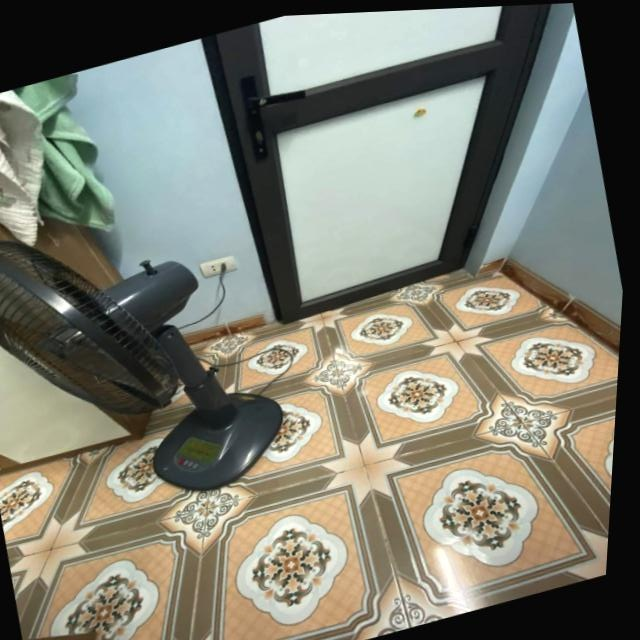outlet: (199, 253, 240, 279)
